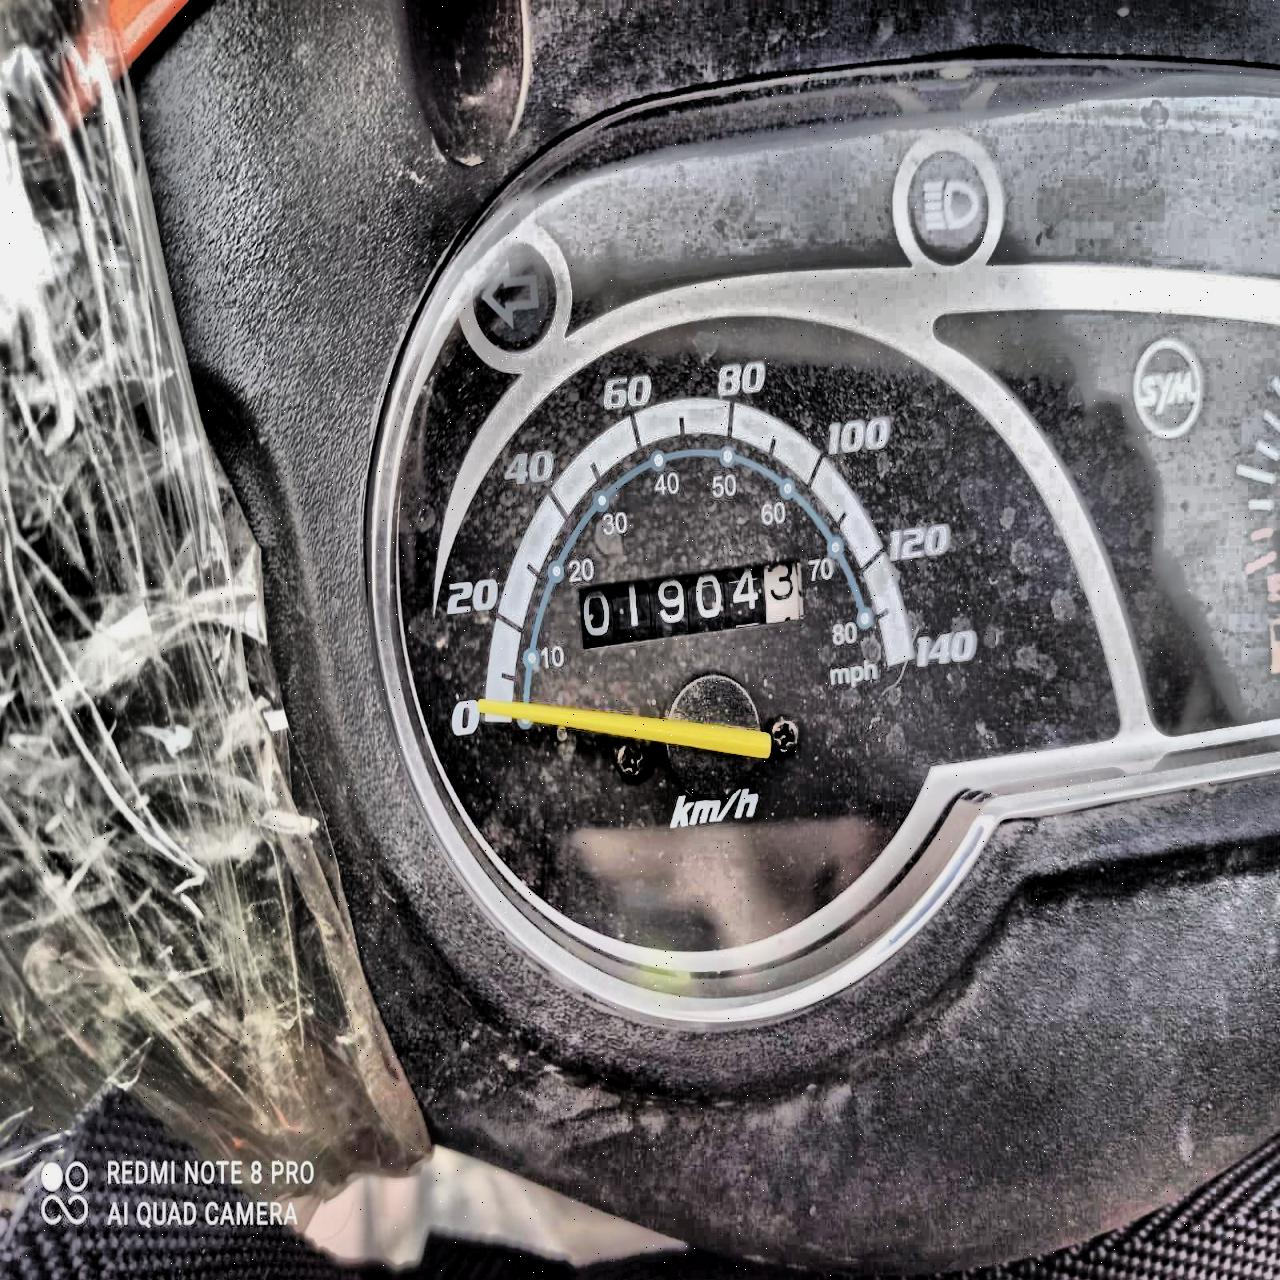0: (693, 567, 722, 622), (581, 586, 611, 638), (580, 554, 594, 581)
1: (621, 577, 645, 633)
3: (765, 557, 796, 604)
4: (734, 566, 760, 617)
9: (654, 573, 683, 628)
odometer: (576, 549, 810, 655)
